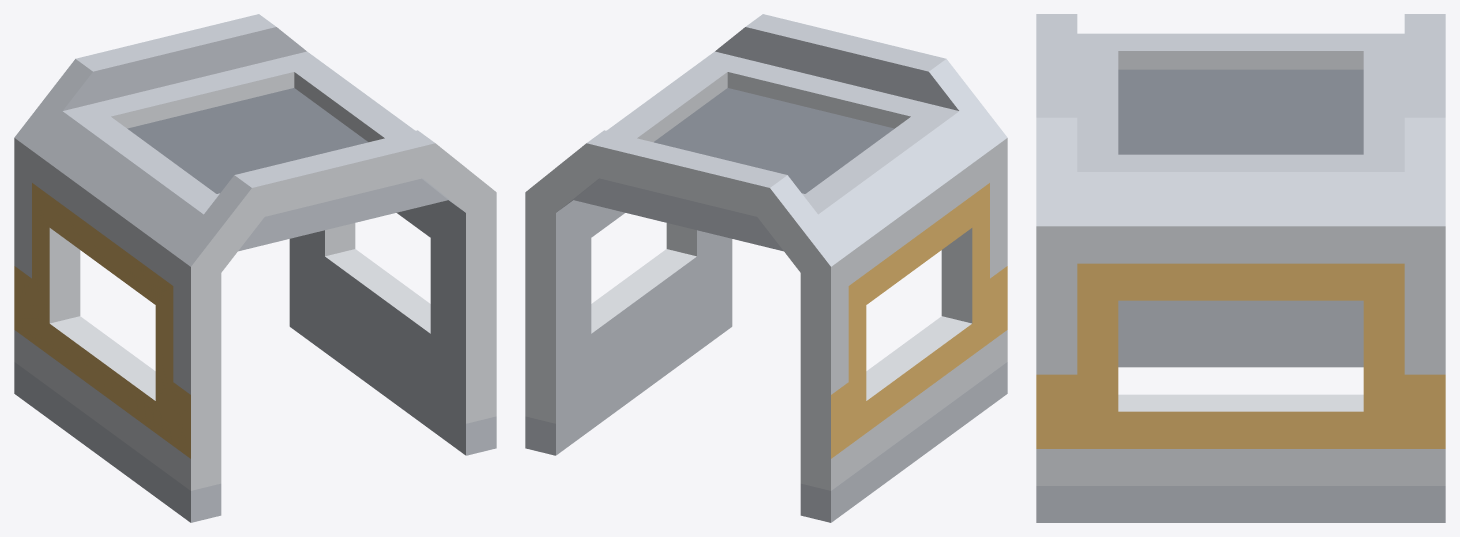
Rendered from space_corridor_window.glb.
The picture shows the model from 3 angles, left to right: view 1: azimuth 30°, elevation 25°; view 2: azimuth 150°, elevation 25°; view 3: azimuth 270°, elevation 25°; orthographic projection. The views are drawn at different scales.
Parts seen in each view (by area): view 1: corridor_window; view 2: corridor_window; view 3: corridor_window.
Boxes of the visible parts, x1=… form: corridor_window: x1=14, y1=14, x2=496, y2=522; corridor_window: x1=525, y1=14, x2=1007, y2=522; corridor_window: x1=1036, y1=14, x2=1445, y2=522.
Bounding box in the file's own units: 1 × 1 × 1.
